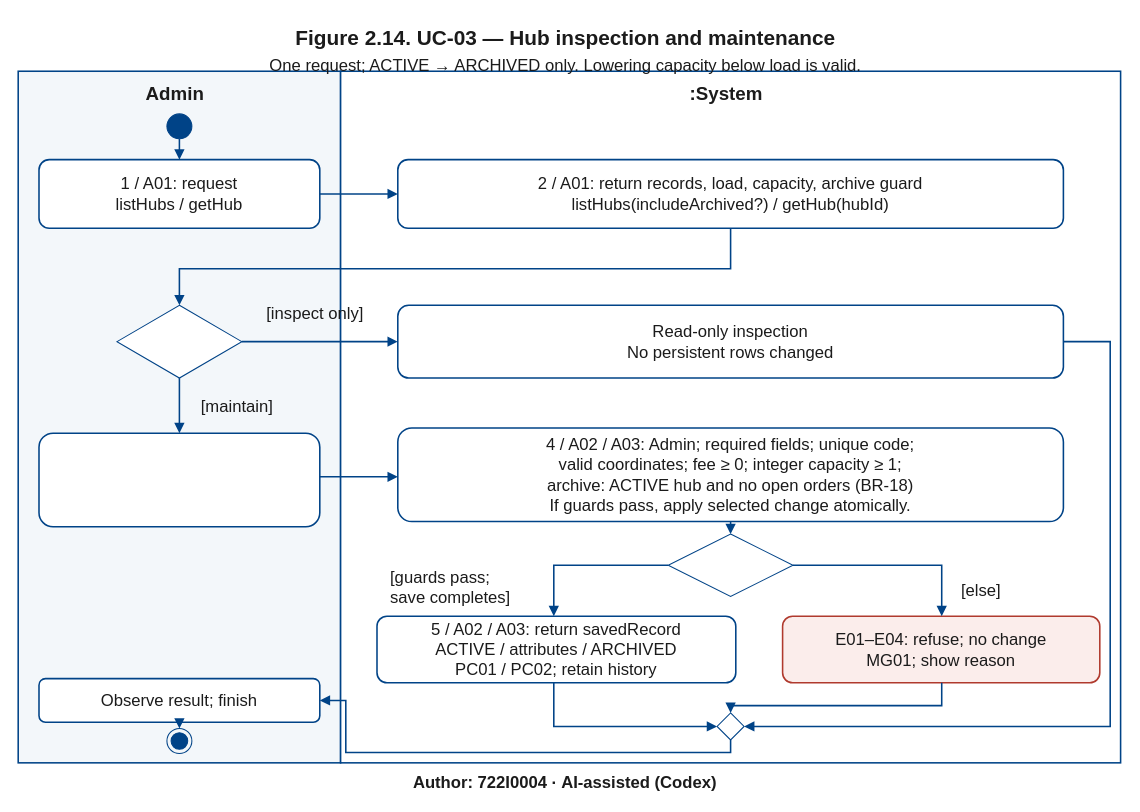
The diagram is 1140 pixels wide and 812 high, and some of its shapes have lost their labels. The centre of each missing label's shape, as x and y in pixels:
"3 / A02 / A03: submit createHub / updateHub / archiveHub" goes at (179,479).
"Next?" goes at (179,341).
"Saved?" goes at (730,564).
